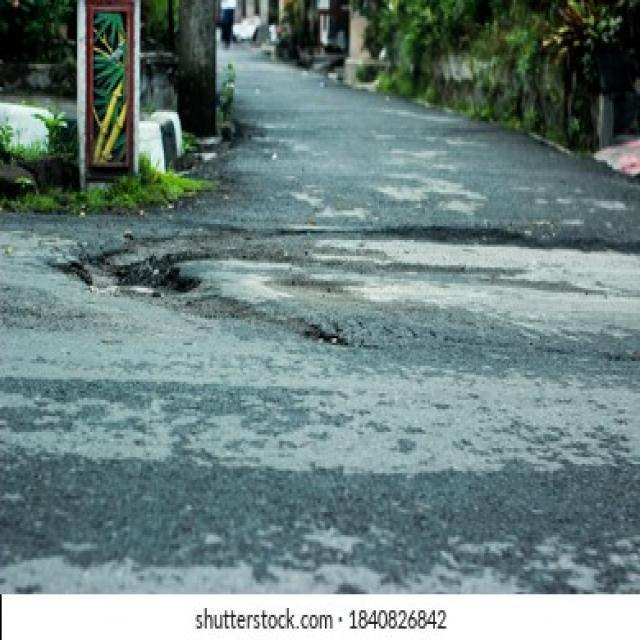pothole: (54, 233, 197, 302), (182, 295, 256, 325), (277, 313, 343, 345)
